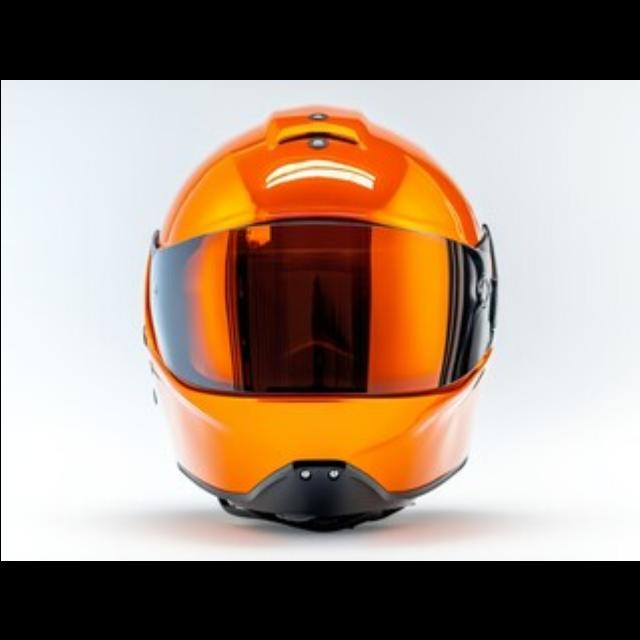motorcycle-helmets: (126, 102, 508, 544)
